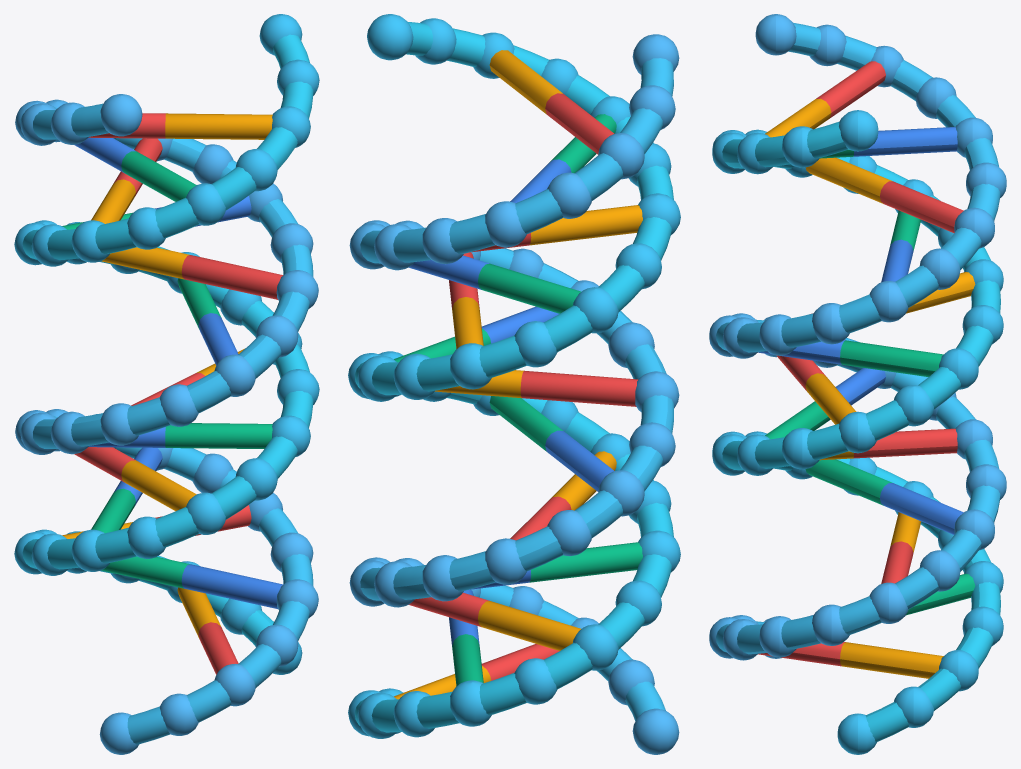
Rendered from 03_dna_double_helix.glb.
The picture shows the model from 3 angles, left to right: view 1: azimuth 30°, elevation 25°; view 2: azimuth 150°, elevation 25°; view 3: azimuth 270°, elevation 25°; orthographic projection. The views are drawn at different scales.
Visible parts, largest first — view 1: Sugar-Phosphate Backbones (Major & Minor Grooves), Guanine [G] Purine Bases, Adenine [A] Purine Bases, Cytosine [C] Pyrimidine Bases, Thymine [T] Pyrimidine Bases; view 2: Sugar-Phosphate Backbones (Major & Minor Grooves), Guanine [G] Purine Bases, Adenine [A] Purine Bases, Cytosine [C] Pyrimidine Bases, Thymine [T] Pyrimidine Bases; view 3: Sugar-Phosphate Backbones (Major & Minor Grooves), Guanine [G] Purine Bases, Cytosine [C] Pyrimidine Bases, Adenine [A] Purine Bases, Thymine [T] Pyrimidine Bases.
Part boxes in pixels (x1,y1,x2,y2): Sugar-Phosphate Backbones (Major & Minor Grooves): (14,14,319,754); Guanine [G] Purine Bases: (62,113,272,638); Adenine [A] Purine Bases: (62,151,272,588); Cytosine [C] Pyrimidine Bases: (74,113,283,674); Thymine [T] Pyrimidine Bases: (74,137,283,608); Sugar-Phosphate Backbones (Major & Minor Grooves): (348,14,680,754); Guanine [G] Purine Bases: (394,50,642,699); Adenine [A] Purine Bases: (394,114,642,686); Cytosine [C] Pyrimidine Bases: (408,93,638,680); Thymine [T] Pyrimidine Bases: (409,159,614,646); Sugar-Phosphate Backbones (Major & Minor Grooves): (709,14,1006,754); Guanine [G] Purine Bases: (765,98,975,678); Cytosine [C] Pyrimidine Bases: (758,61,963,666); Adenine [A] Purine Bases: (765,149,975,615); Thymine [T] Pyrimidine Bases: (758,127,963,615).
Size of the model in its own units: 126 by 298 by 125.
